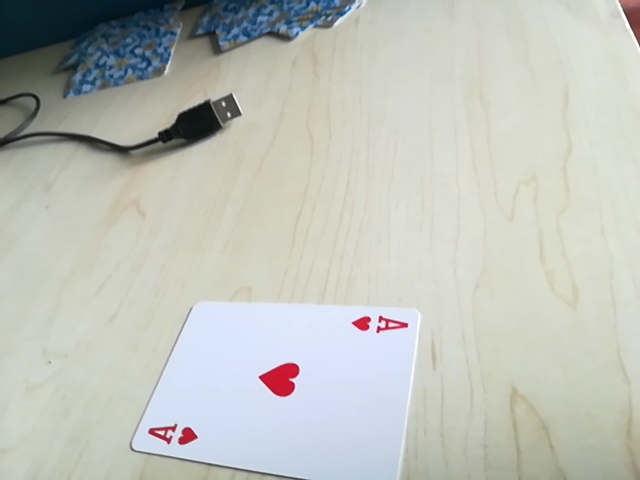hx a: (347, 307, 415, 341), (137, 419, 205, 452)
